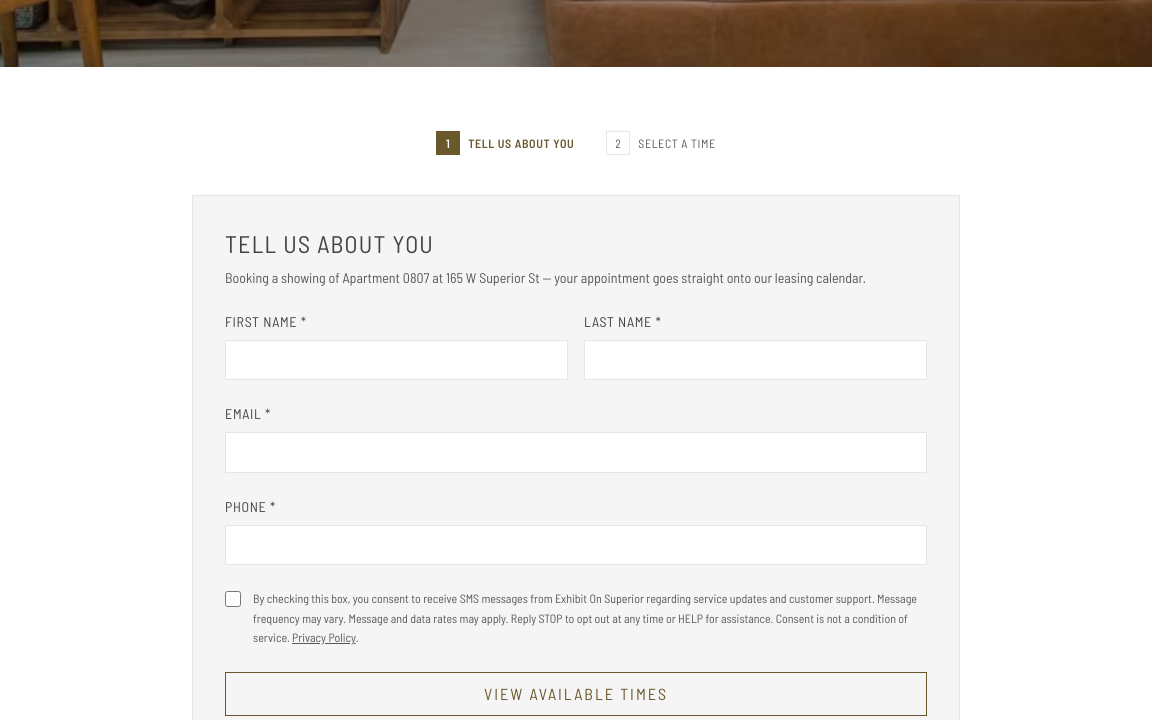
Test: ScheduleShowing later booking steps label-in-name (WCAG 2.5.3) › step 2 — no slots open (leasing-team handoff prompt)
The width and height of the screenshot is (1152, 720).
(page scrolled)
Type "Ada" into the field labelled "First Name *".
click(396, 360); type("Ada")  # box top-left (225, 340), bottom-right (568, 380)
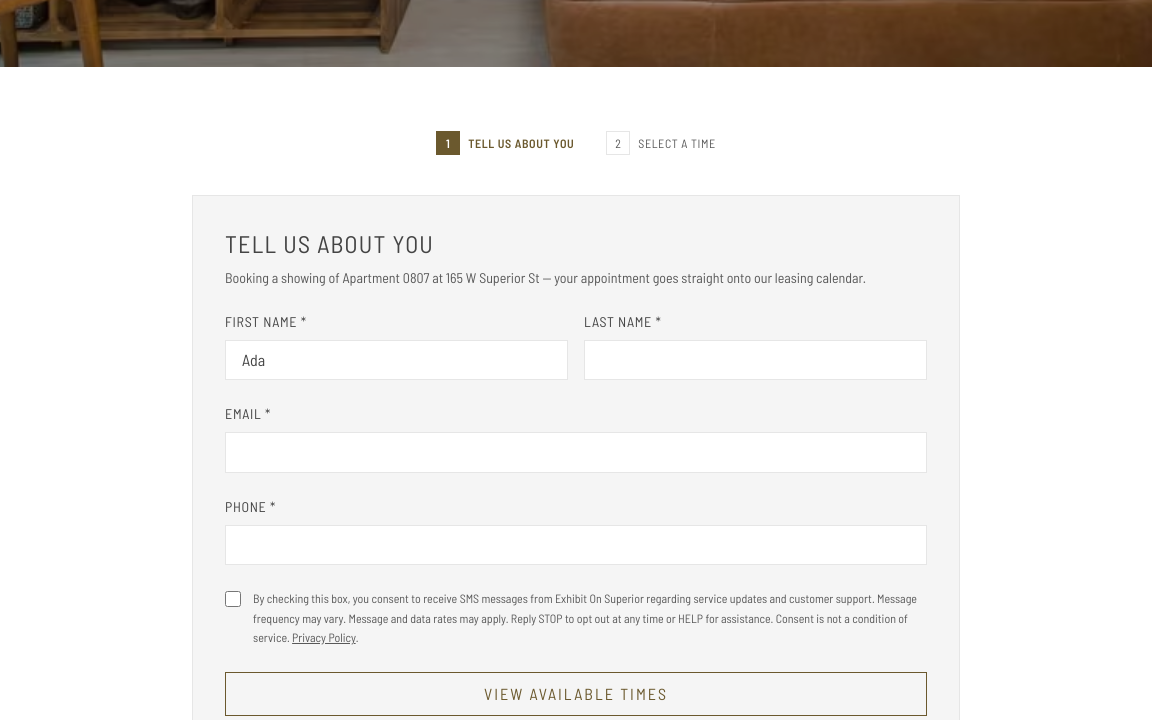
Type "Lovelace" into the field labelled "Last Name *".
click(756, 360); type("Lovelace")  # box top-left (584, 340), bottom-right (927, 380)
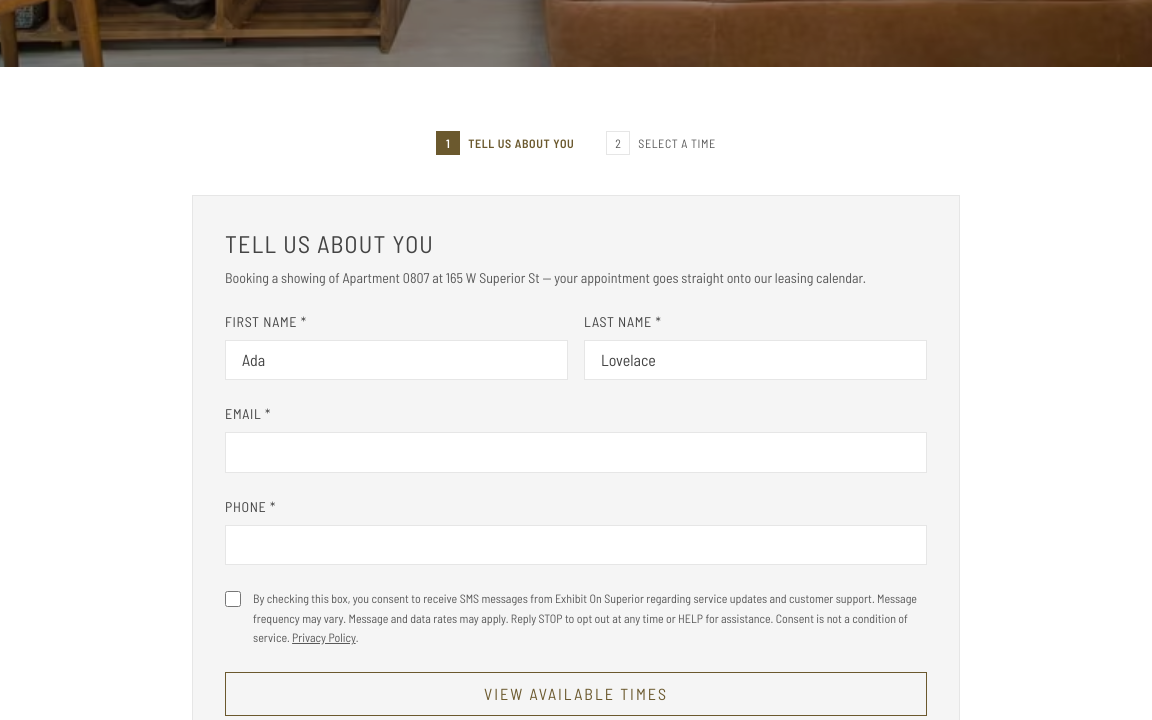
Type "ada@example.com" into the field labelled "Email *".
click(576, 453); type("ada@example.com")  # box top-left (225, 432), bottom-right (927, 473)
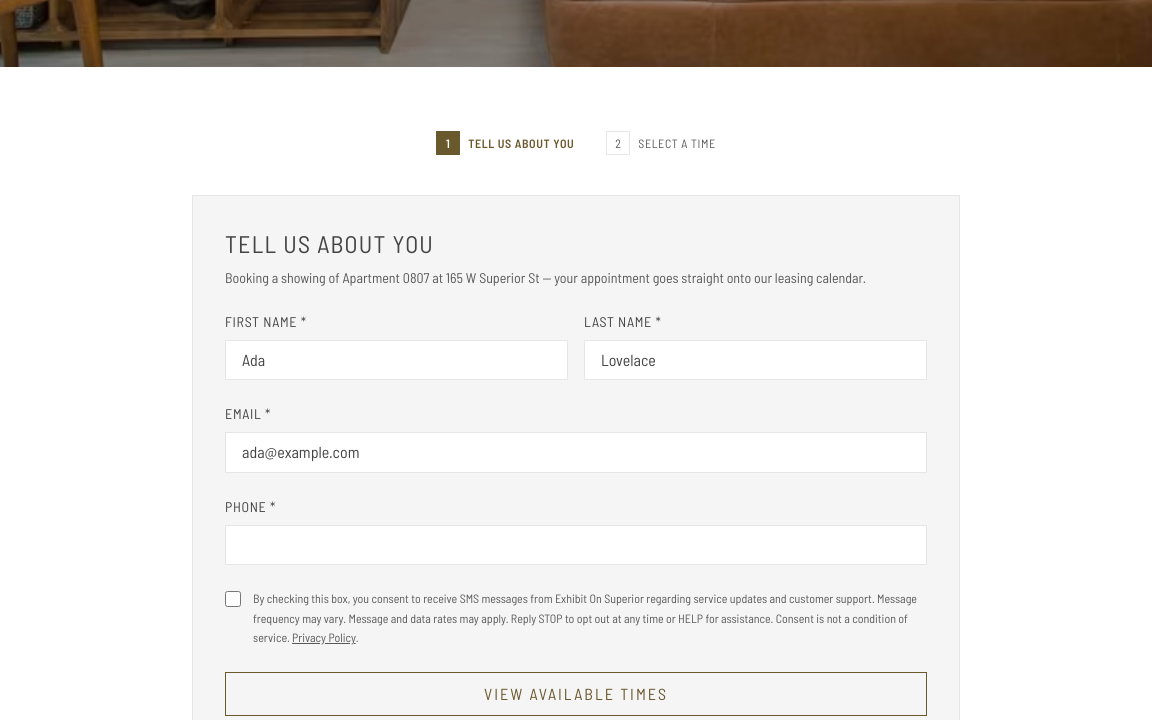
Type "3125550123" into the field labelled "Phone *".
click(576, 545); type("3125550123")  # box top-left (225, 525), bottom-right (927, 565)
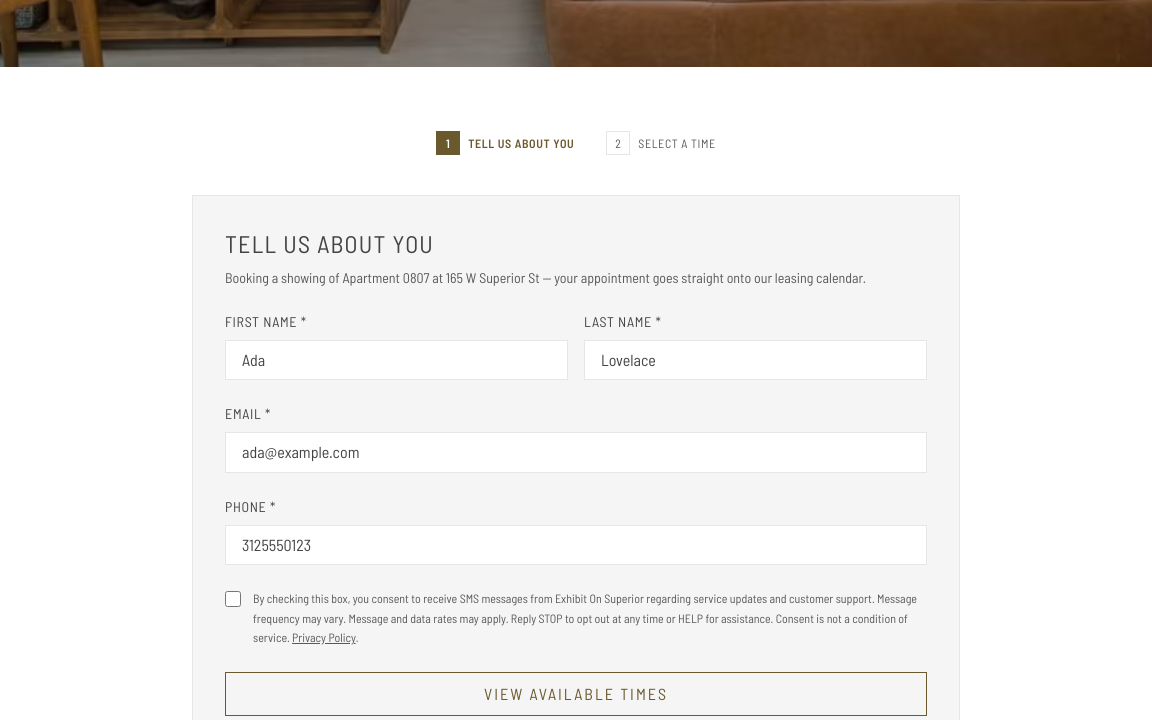
Click the button "View Available Times".
click(576, 694)  # box top-left (225, 672), bottom-right (927, 716)
(page scrolled)
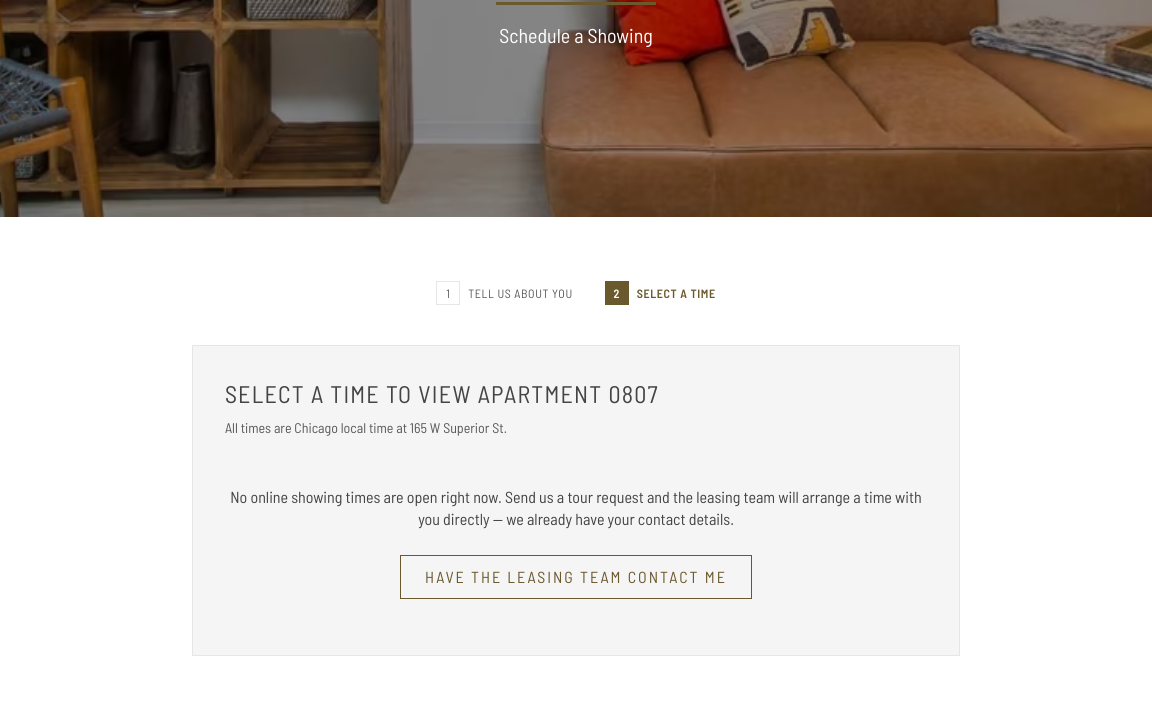
Check: the button "Have the leasing team contact me" is shown, box top-left (400, 555), bottom-right (752, 599)
